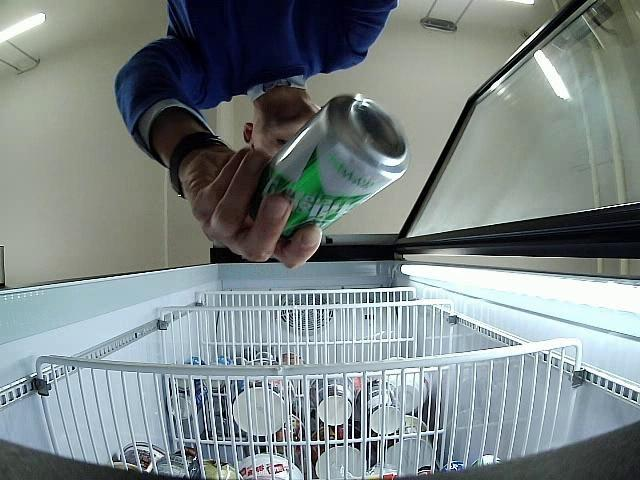12_chilsungCider: (248, 93, 409, 242)
